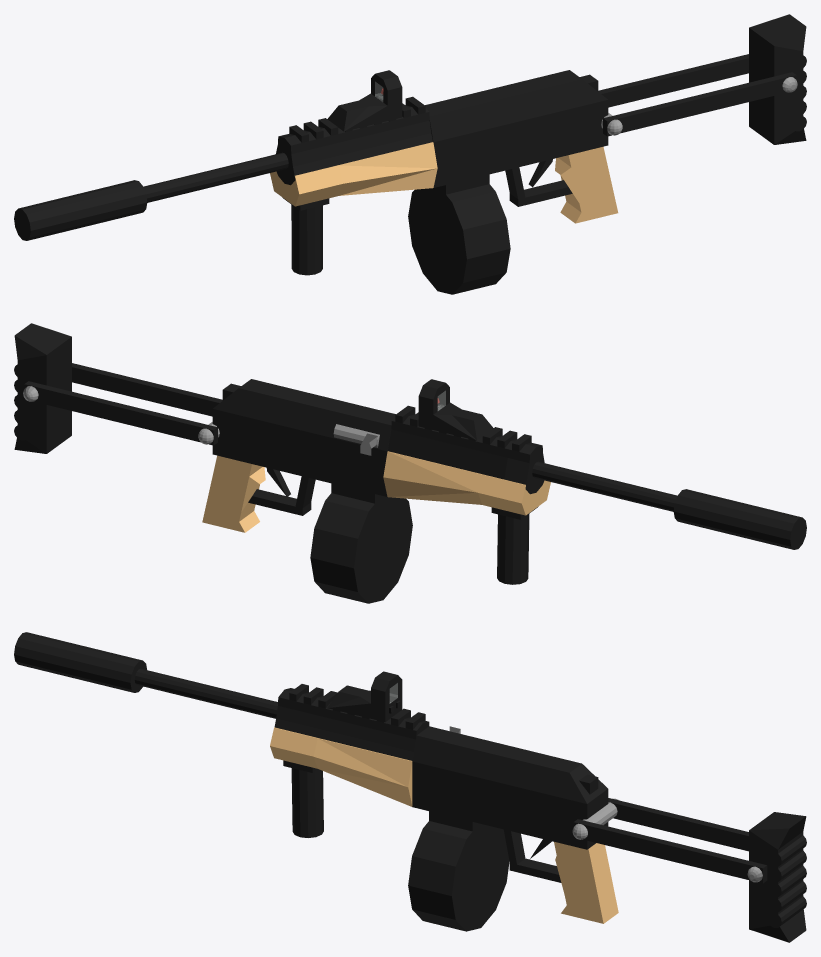
Rendered from rifle_speedrun_test.glb.
The picture shows the model from 3 angles, top to bottom: view 1: azimuth 30°, elevation 25°; view 2: azimuth 150°, elevation 25°; view 3: azimuth 330°, elevation 25°; orthographic projection.
Parts seen in each view (by area): view 1: Node_4bc7cc, Node_6951f8; view 2: Node_4bc7cc, Node_6951f8, Node_588e6b; view 3: Node_4bc7cc, Node_6951f8, Node_588e6b.
Part boxes in pixels (box(x1,y1,x2,y2)): Node_4bc7cc: box(14, 14, 806, 294); Node_6951f8: box(270, 142, 618, 223); Node_4bc7cc: box(14, 323, 806, 603); Node_6951f8: box(202, 451, 550, 532); Node_588e6b: box(23, 386, 379, 455); Node_4bc7cc: box(14, 632, 806, 942); Node_6951f8: box(270, 727, 618, 923); Node_588e6b: box(449, 726, 762, 882).
Bounding box in the file's own units: 3.19 × 0.9 × 0.42.
